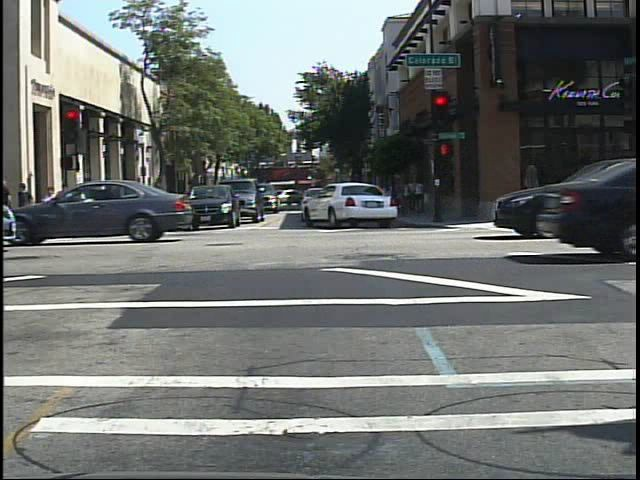person: (102, 186, 116, 227), (143, 181, 159, 213), (140, 181, 155, 212)
